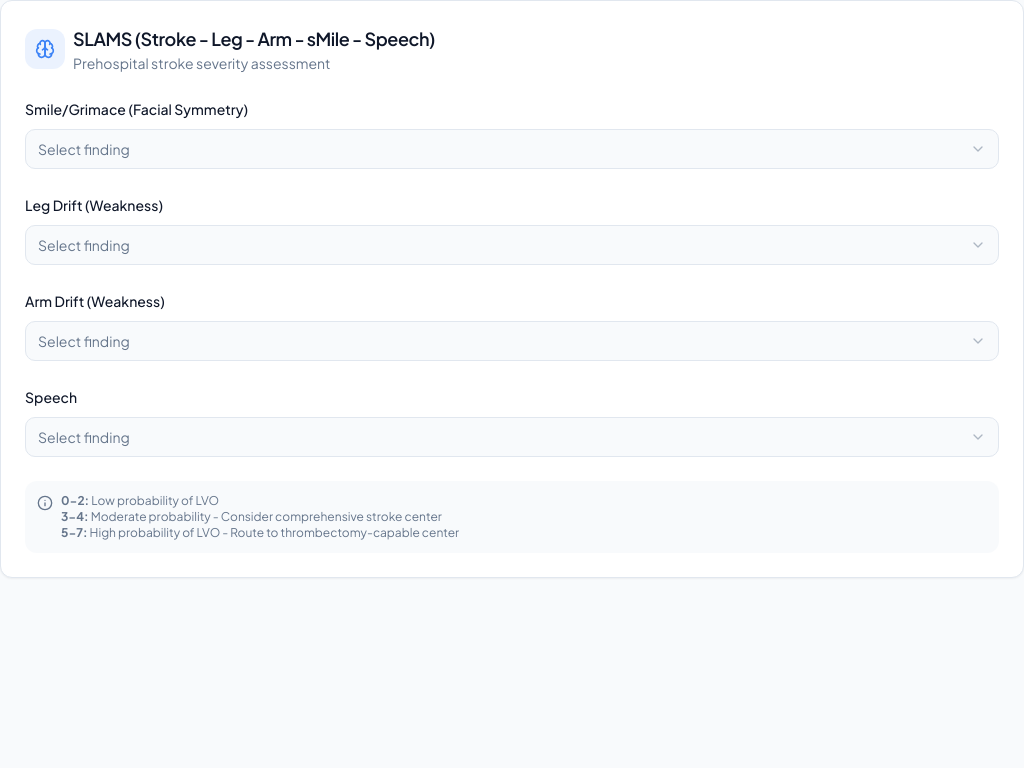
Test: SLAMSCalculator › Scoring Options - Arm Drift › provides arm weakness scoring options (0-2)
Click the dropdown labelled "Select finding" below "Arm Drift (Weakness)".
click(84, 341)  # box [25,321,999,361]
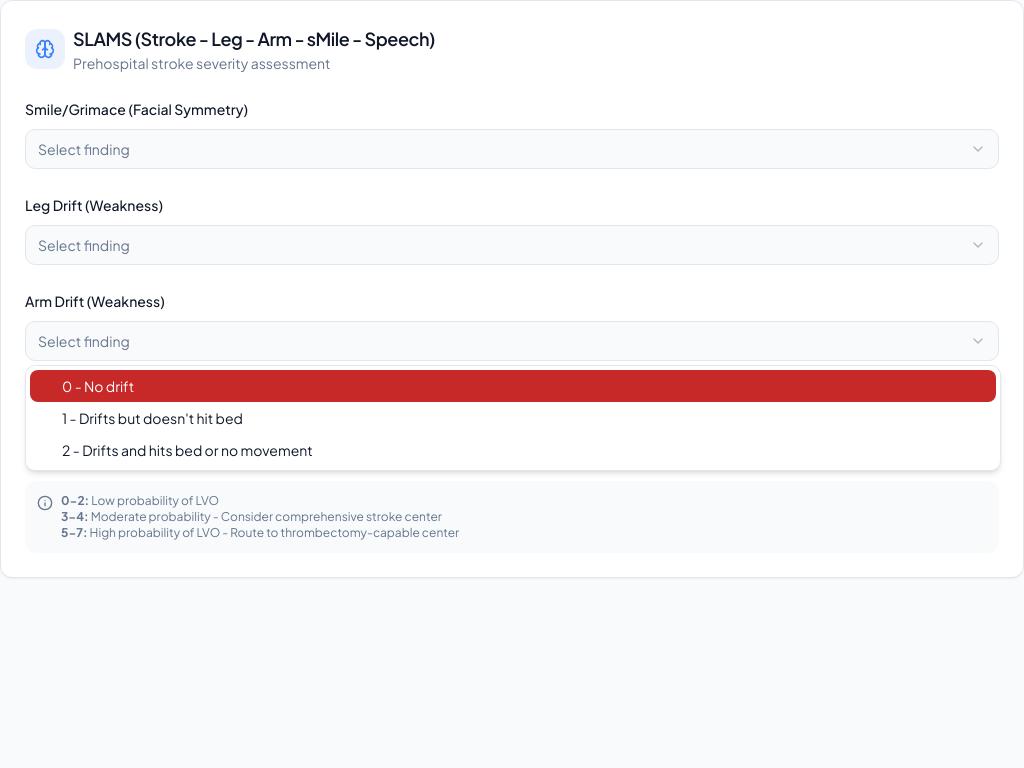
Check: the text "0 - No drift" is shown, box [62,376,134,396]
